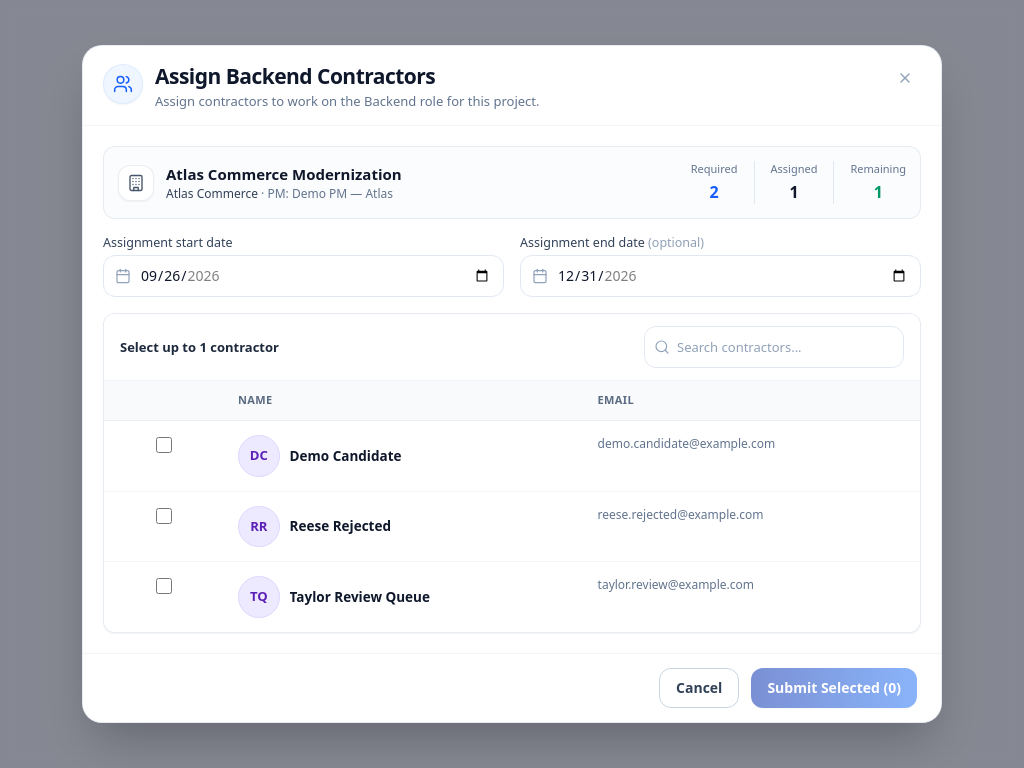
5. filters contractor list with compact search input
Expected: the text "Demo Candidate" is shown, top-left (290, 447), bottom-right (402, 465)
Expected: the text "Reese Rejected" is shown, top-left (290, 517), bottom-right (391, 536)
In the field with placeholder "Search contractors...": (774, 347) top-left (644, 326), bottom-right (904, 368), type "Reese"
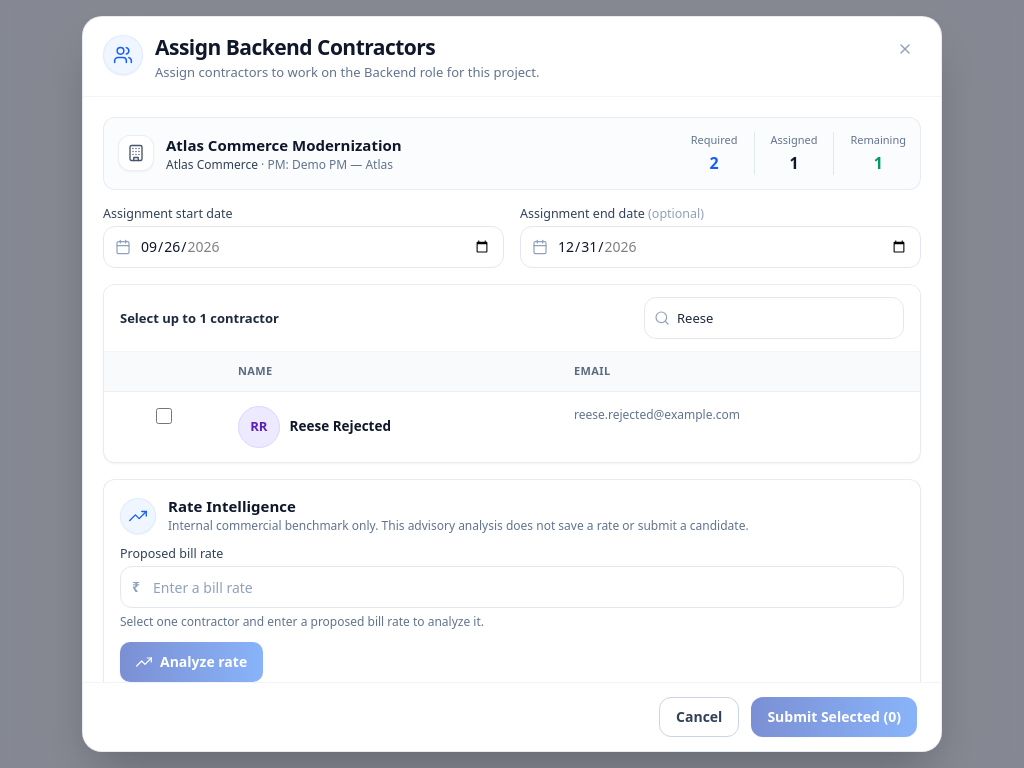
Expected: the text "Reese Rejected" is shown, top-left (290, 418), bottom-right (391, 436)
Expected: the text "Demo Candidate" is gone
